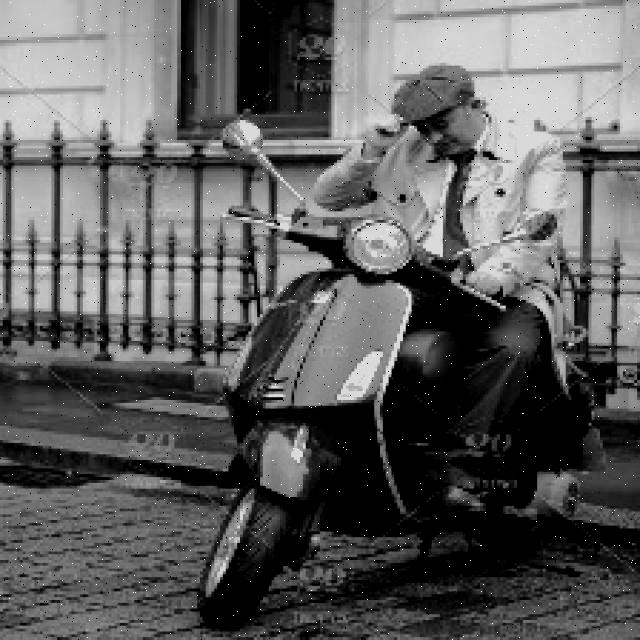Bike: (225, 194, 569, 622)
